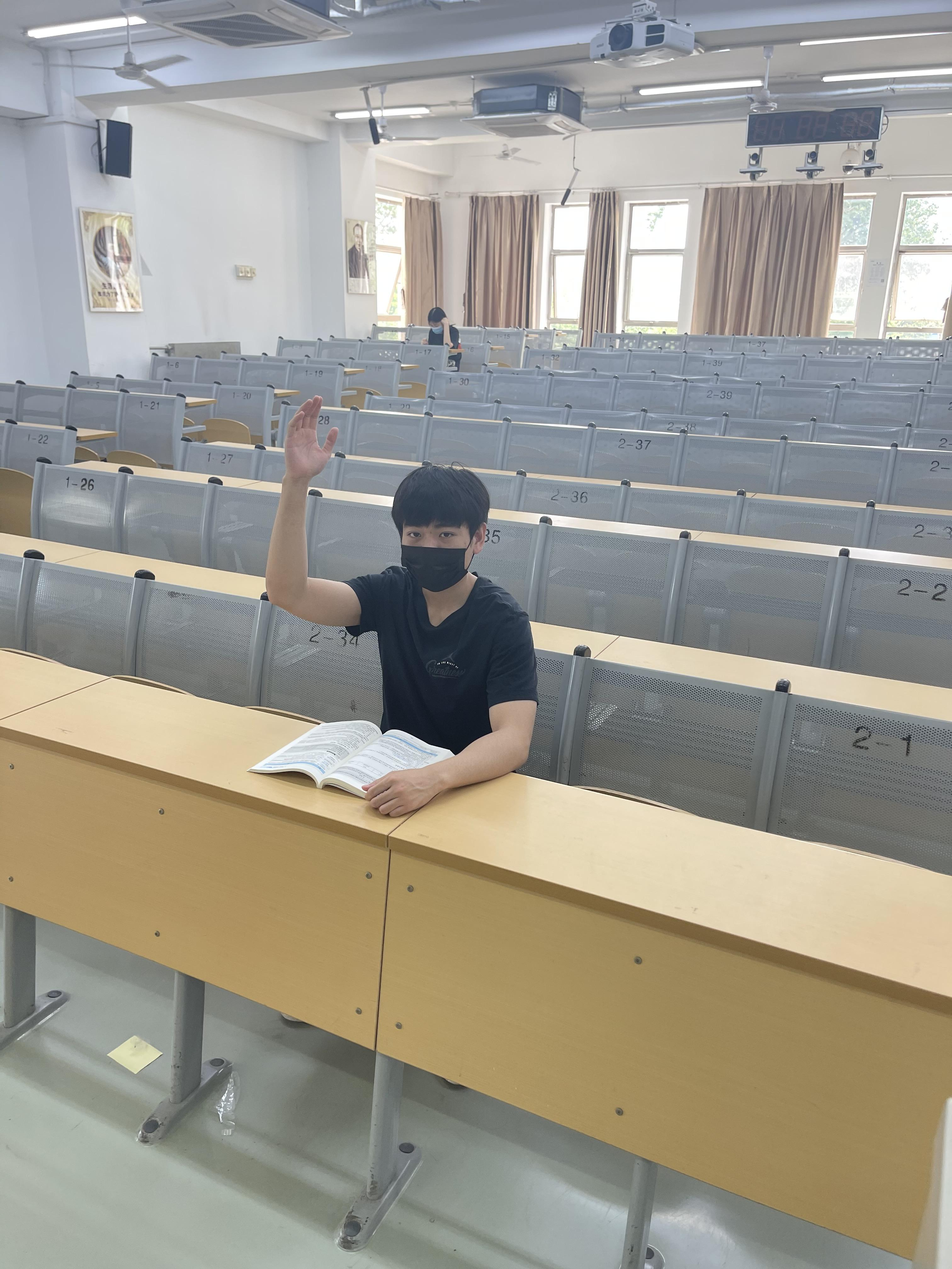study: (262, 393, 542, 816), (421, 306, 456, 348)
